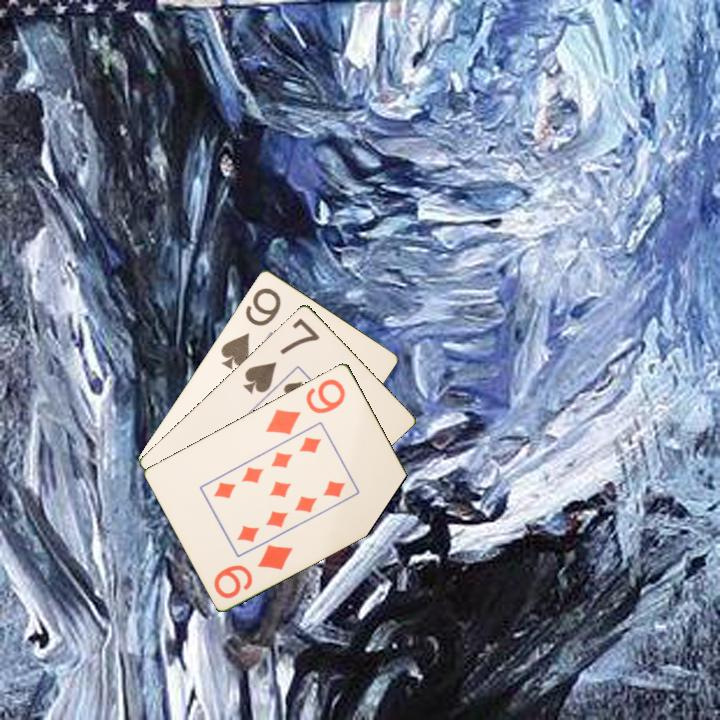7s: (239, 314, 323, 396)
9d: (262, 375, 349, 437), (210, 540, 296, 601)
9s: (217, 283, 284, 372)
